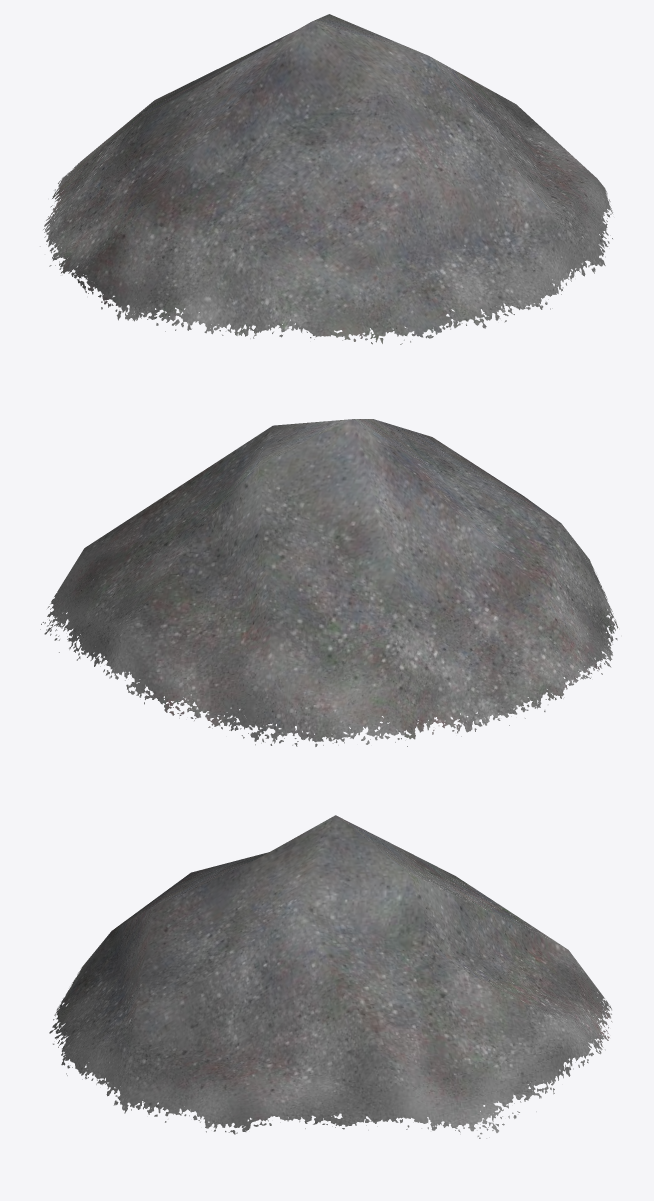
Rendered from PileOfAshFBX.fbx.
3 renders of one model, top to bottom at view 1: azimuth 30°, elevation 25°; view 2: azimuth 150°, elevation 25°; view 3: azimuth 270°, elevation 25°, orthographic.
Parts seen in each view (by area): view 1: defaultMaterial; view 2: defaultMaterial; view 3: defaultMaterial.
Boxes of the visible parts, x1,y1,x2,y2 form: defaultMaterial: (40, 14, 612, 344); defaultMaterial: (40, 419, 618, 746); defaultMaterial: (49, 815, 612, 1138).
Bounding box in the file's own units: 198 × 82.83 × 200.
Materials: 1 (1 with a texture image).
